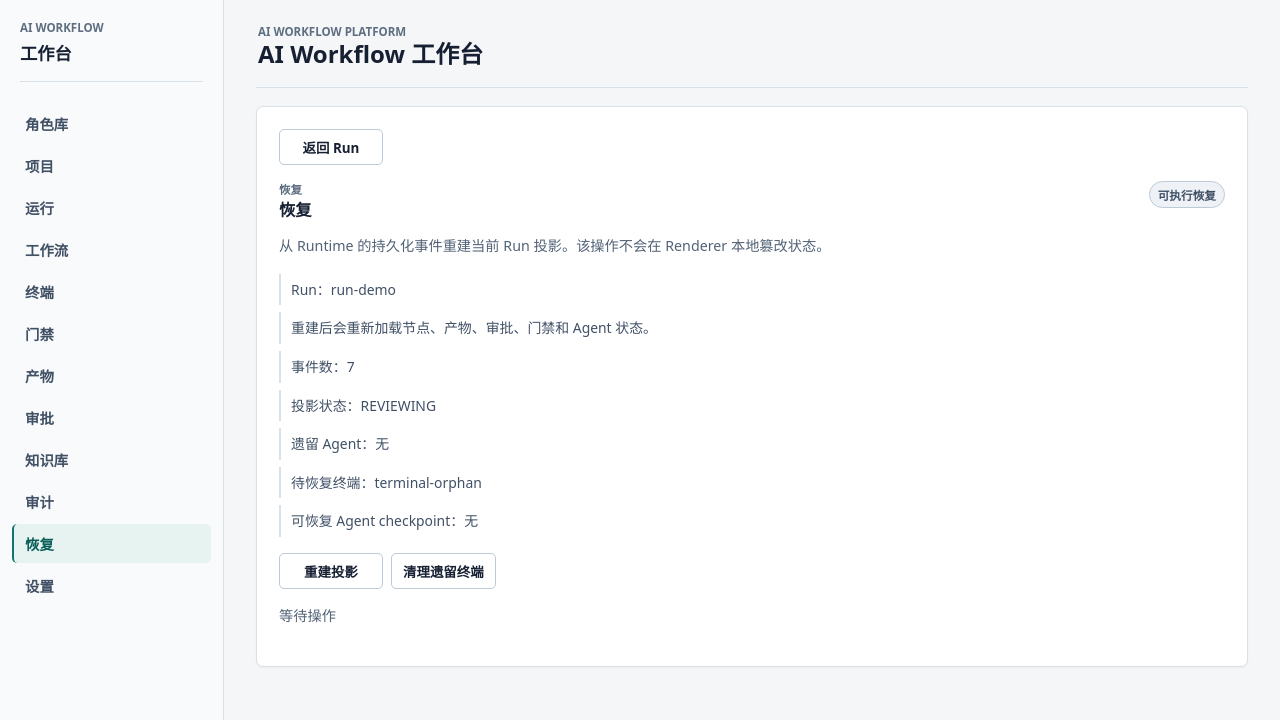
Test: App › cleans orphan terminal sessions from Recovery and refreshes the diagnostic result
The image size is (1280, 720).
What coordinates should you click on to do the following:
click the button "清理遗留终端"
I would click on:
 (443, 571)
Its box is [391,553,496,589].
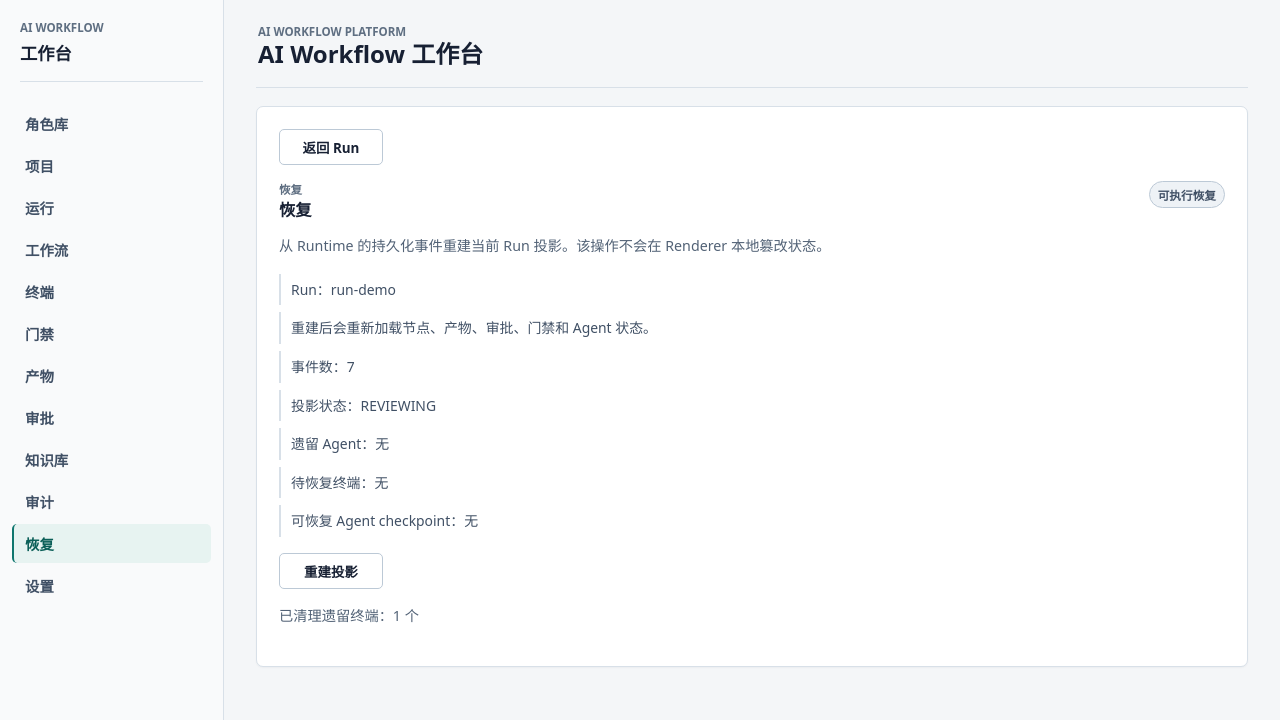
expect the text "已清理遗留终端：1 个" is shown: met, box [279,606,419,625]
